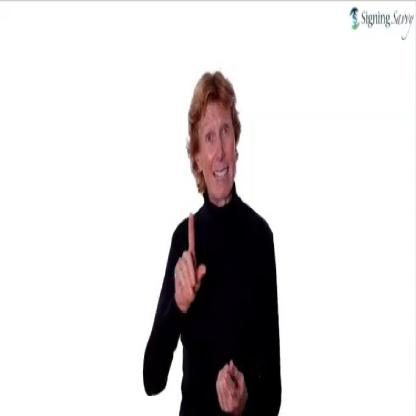NiceToMeetYou: (161, 201, 258, 416)
